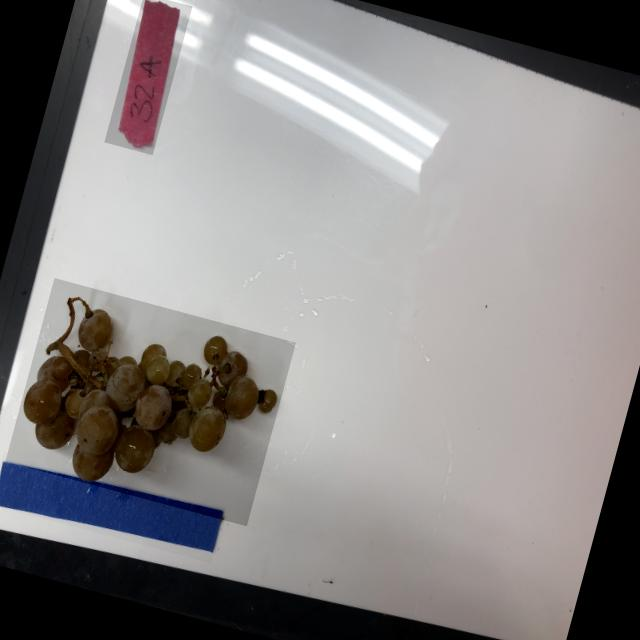grape_cluster: (5, 277, 296, 525)
index: (104, 0, 192, 153)
measure_label: (0, 450, 224, 561)
